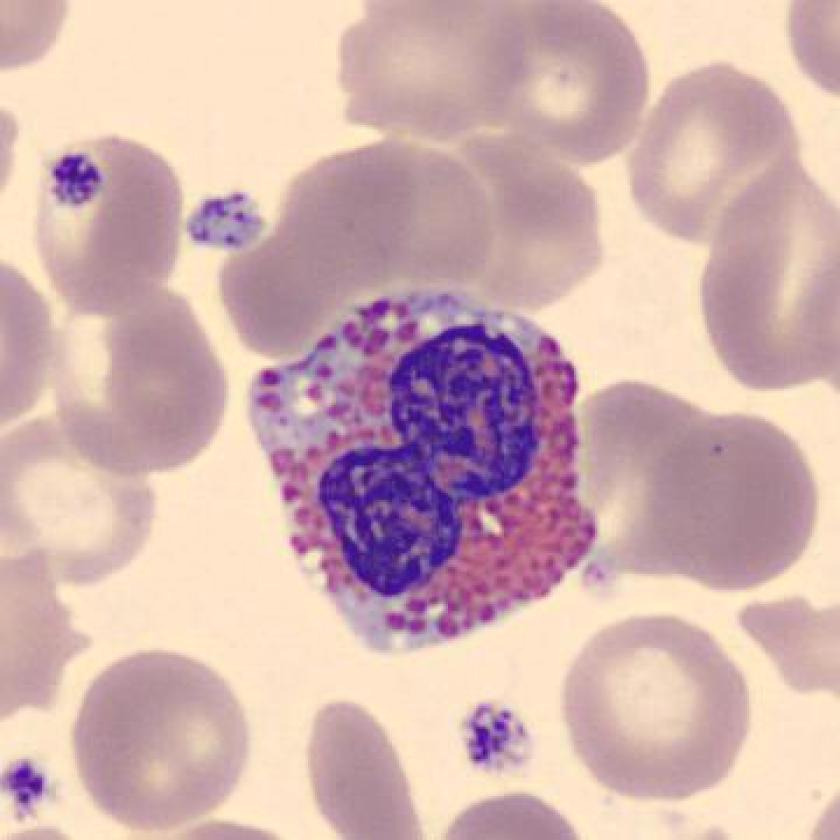eosinophil: (234, 274, 610, 668)
